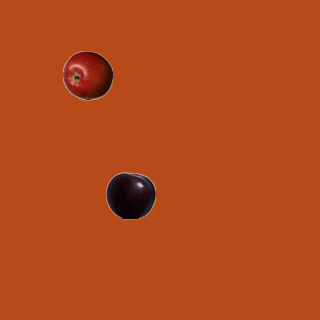Apple Braeburn: (62, 50, 112, 100)
Cherry Wax Black: (105, 170, 155, 220)
